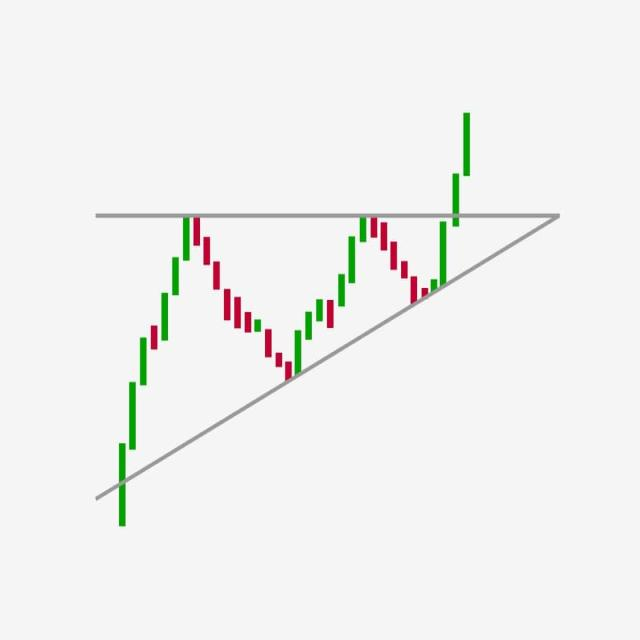Ascending-Triangle: (81, 220, 541, 504)
